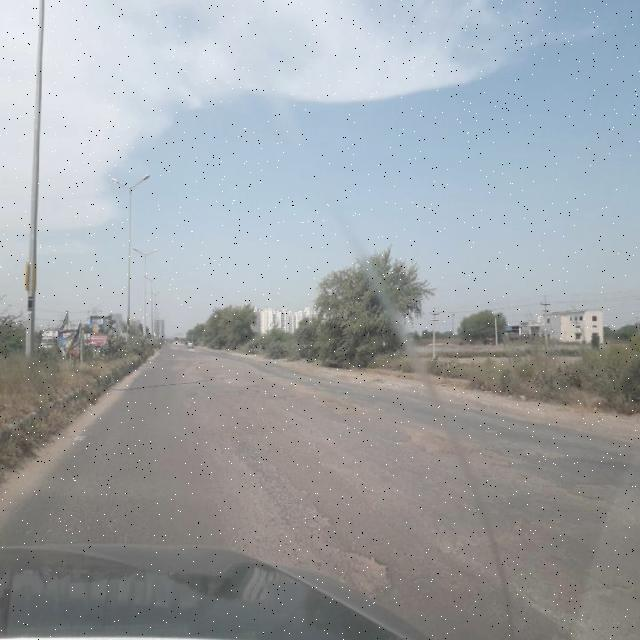D00: (441, 542, 587, 622)
D40: (216, 419, 399, 590), (399, 403, 628, 521), (172, 368, 266, 416), (271, 377, 379, 417), (581, 578, 640, 600), (443, 530, 502, 552)
